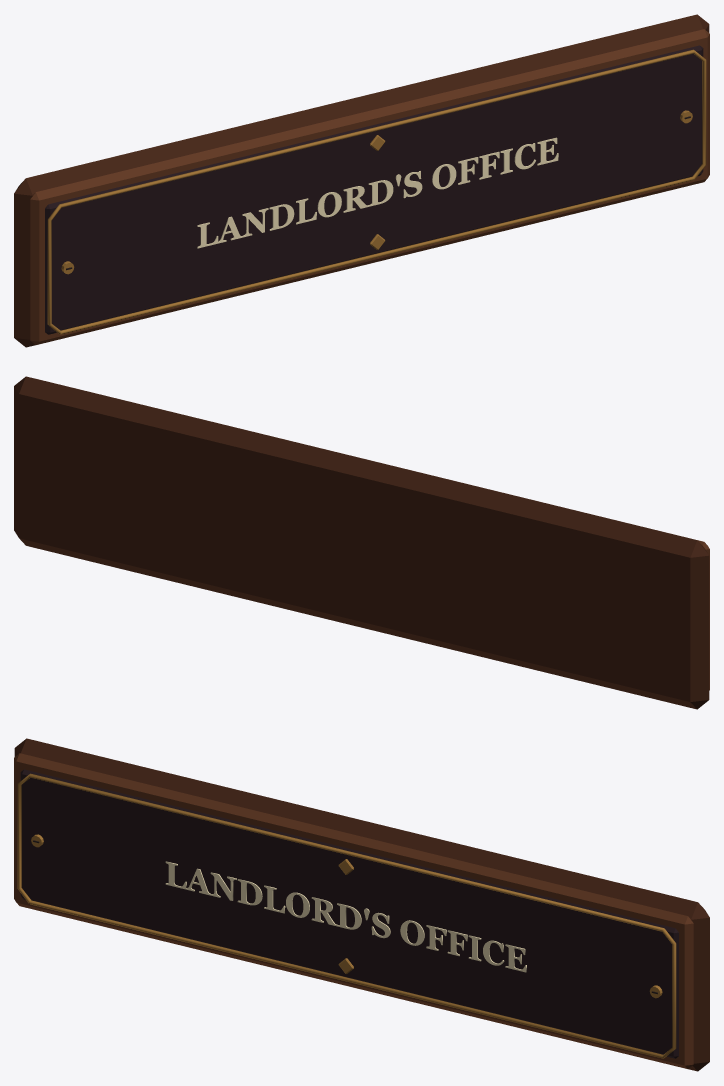
The model's file is OfficeRoomSign.glb.
The picture shows the model from 3 angles, top to bottom: view 1: azimuth 30°, elevation 25°; view 2: azimuth 150°, elevation 25°; view 3: azimuth 330°, elevation 25°; orthographic projection.
Parts seen in each view (by area): view 1: DarkEnamelInset.003, RaisedOakBorder.003, CarvedOakPlaque.003, BrassOutline.003, IvorySerifLettering.003; view 2: CarvedOakPlaque.003; view 3: DarkEnamelInset.003, RaisedOakBorder.003, CarvedOakPlaque.003, BrassOutline.003, IvorySerifLettering.003.
Boxes of the visible parts, bbox=[...] form: DarkEnamelInset.003: bbox=[45, 45, 703, 334]; RaisedOakBorder.003: bbox=[30, 29, 709, 344]; CarvedOakPlaque.003: bbox=[14, 14, 709, 347]; BrassOutline.003: bbox=[47, 49, 706, 334]; IvorySerifLettering.003: bbox=[197, 137, 558, 248]; CarvedOakPlaque.003: bbox=[14, 376, 709, 709]; DarkEnamelInset.003: bbox=[20, 769, 678, 1058]; RaisedOakBorder.003: bbox=[14, 753, 693, 1068]; CarvedOakPlaque.003: bbox=[14, 738, 709, 1071]; BrassOutline.003: bbox=[17, 773, 676, 1058]; IvorySerifLettering.003: bbox=[165, 861, 526, 972].
Size of the model in its own units: 5.8 by 1.35 by 0.346.
